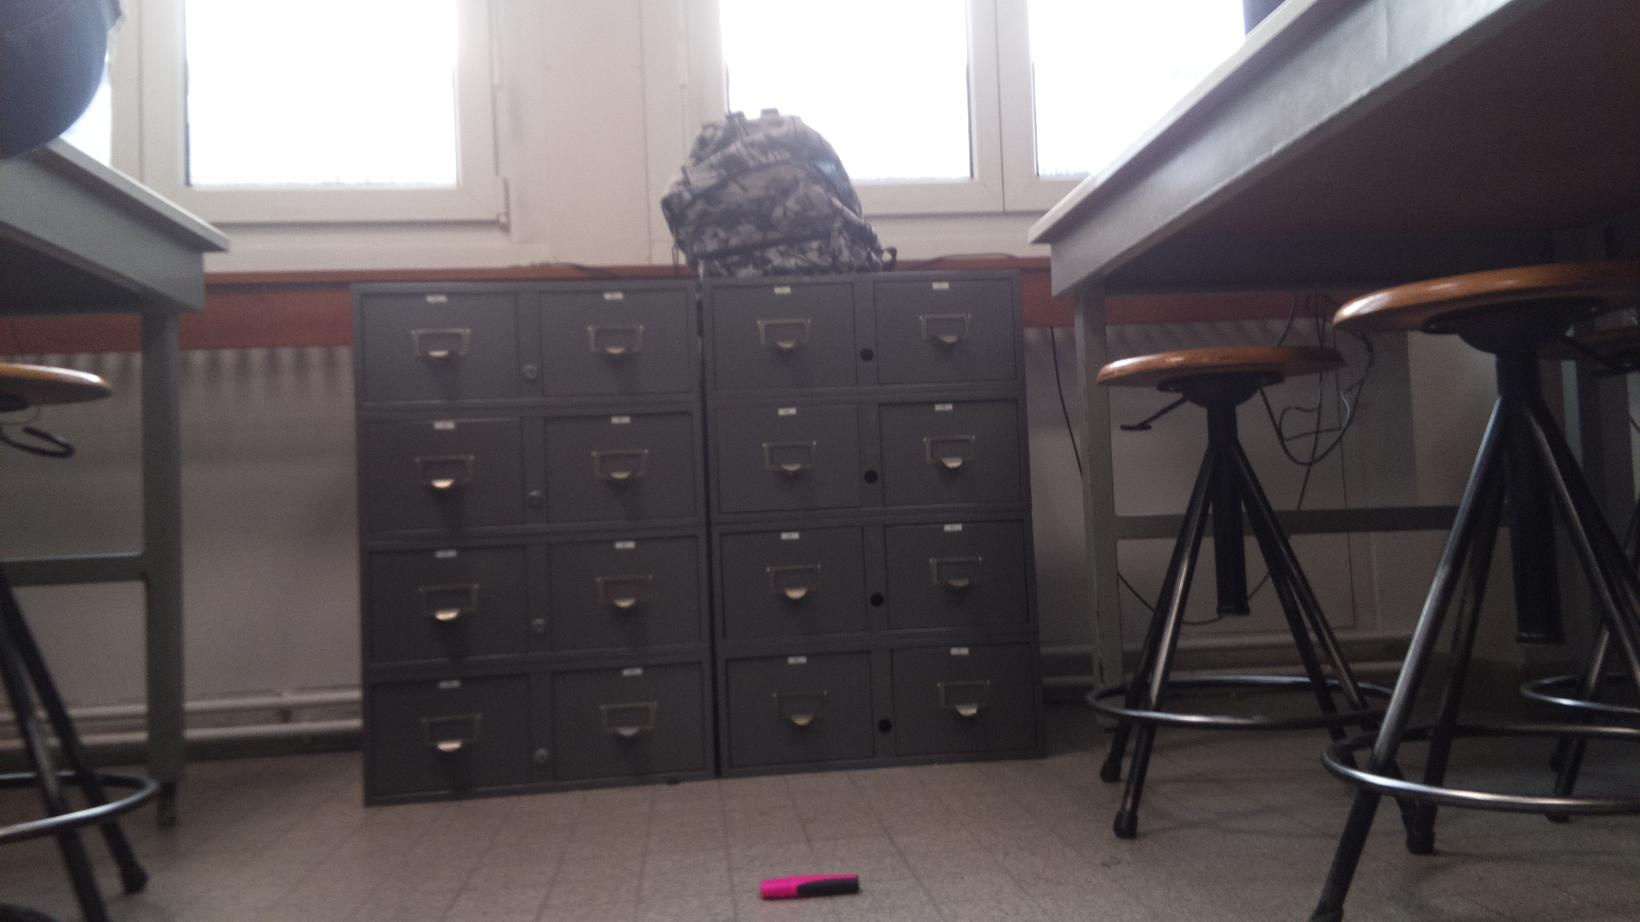big: (669, 119, 855, 270)
small: (758, 869, 863, 902)
